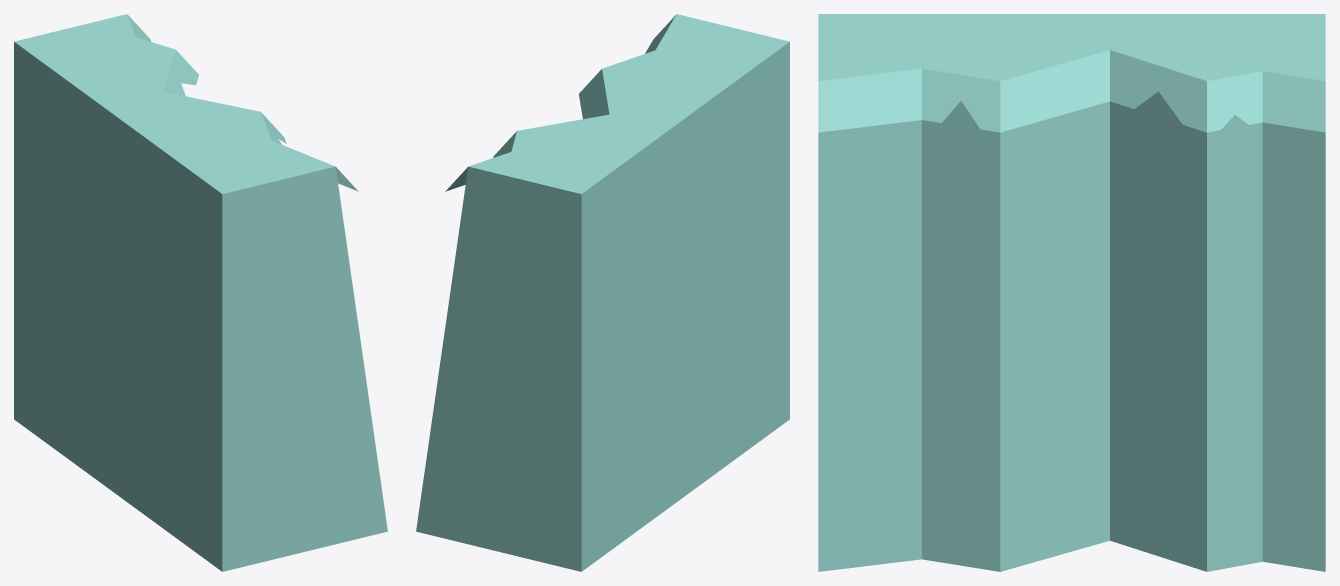
Rendered from cliffGrey_top.fbx.
3 views of the same model, side by side, from view 1: azimuth 30°, elevation 25°; view 2: azimuth 150°, elevation 25°; view 3: azimuth 270°, elevation 25° (orthographic). The views are drawn at different scales.
Visible parts, largest first — view 1: cliffGrey_top; view 2: cliffGrey_top; view 3: cliffGrey_top.
Part boxes in pixels (x1=…): cliffGrey_top: x1=14, y1=14, x2=387, y2=571; cliffGrey_top: x1=416, y1=14, x2=789, y2=571; cliffGrey_top: x1=818, y1=14, x2=1325, y2=571.
Size of the model in its own units: 138 by 300 by 300.
